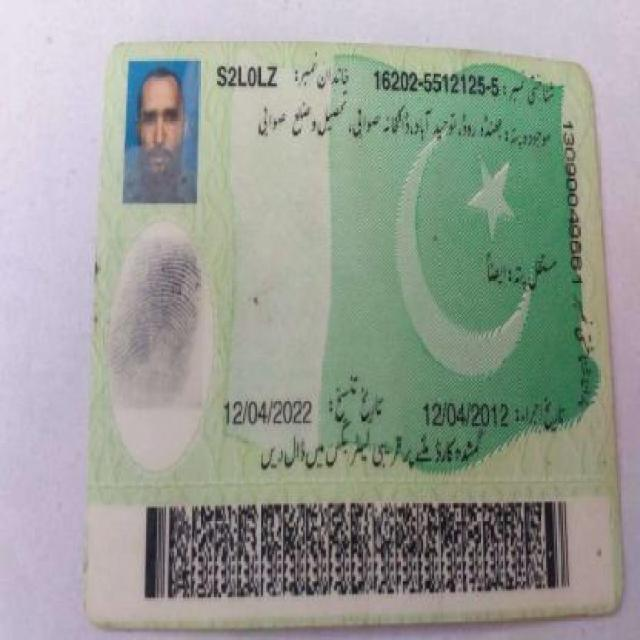Back: (86, 37, 622, 615)
